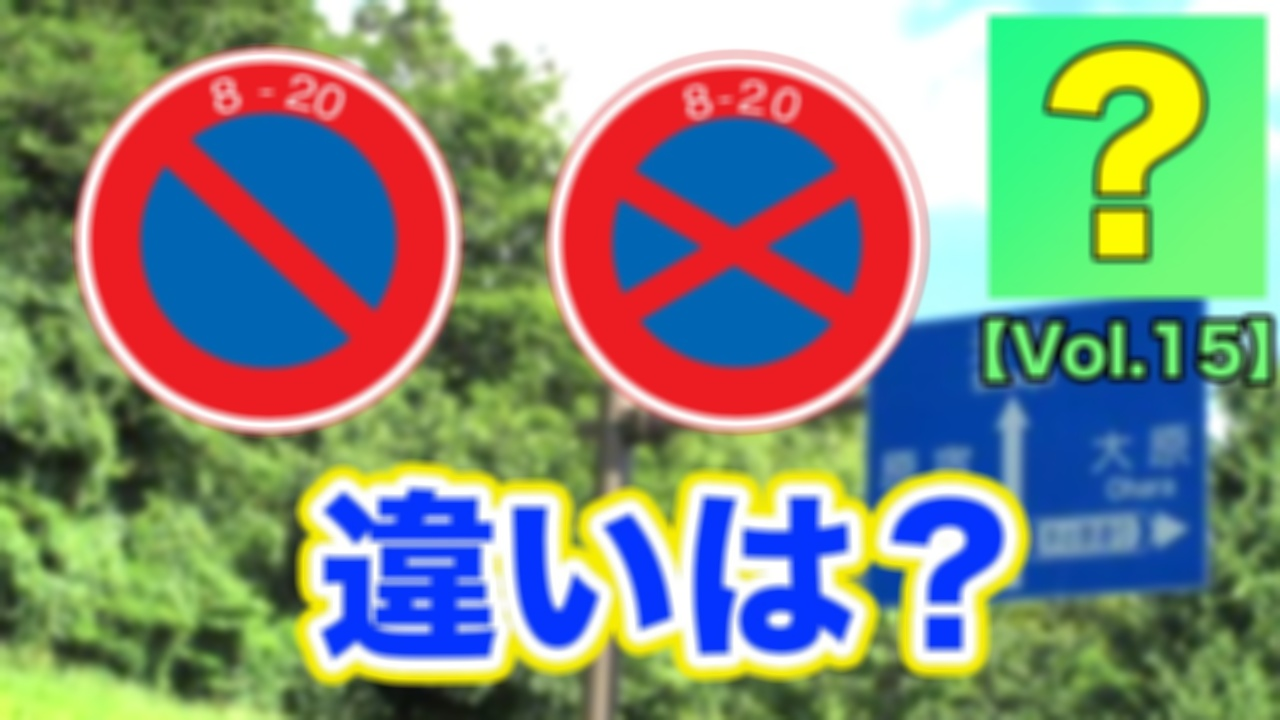Prohibition_sign: (522, 42, 950, 444), (68, 43, 481, 458)
